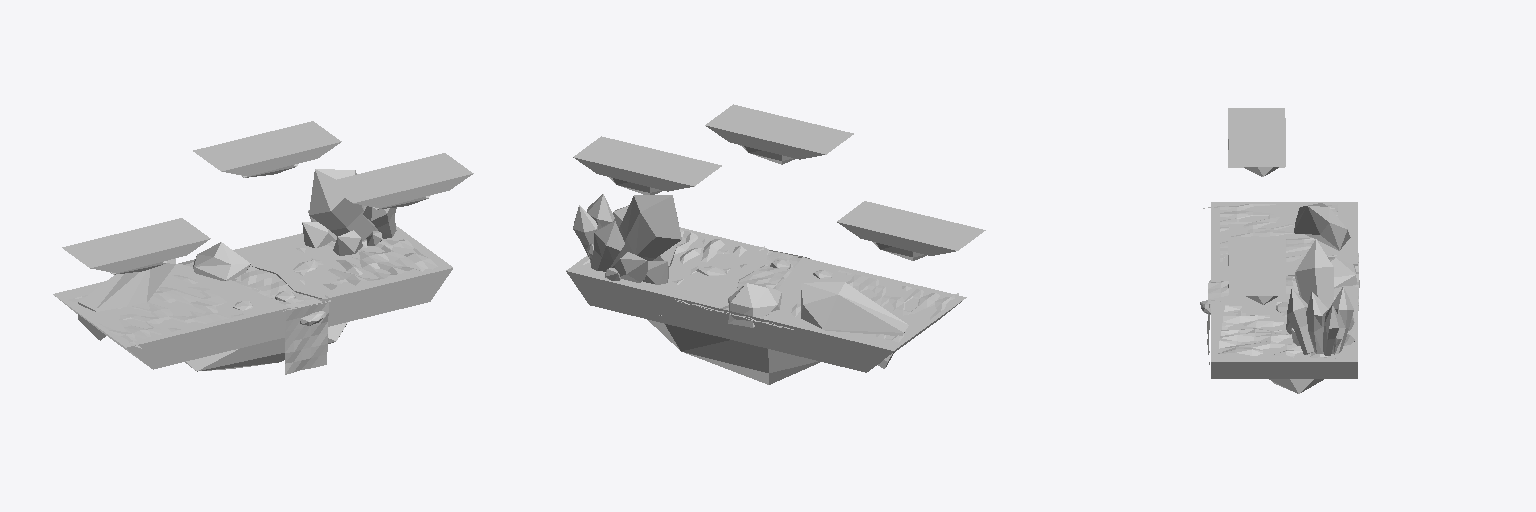
The model's file is level design day 4.obj.
The picture shows the model from 3 angles: view 1: azimuth 30°, elevation 25°; view 2: azimuth 150°, elevation 25°; view 3: azimuth 270°, elevation 25°; orthographic projection.
Parts seen in each view (by area): view 1: Cube, Mineral_Cylinder, Cube.001, Cube.002_Cube.003, Cube.003_Cube.004, Plane.008, Rock6_Icosphere.005, Plane.011, Plane.010, Rock4.001_Icosphere.004, Rock4_Icosphere.002, Plane.009; view 2: Cube, Mineral_Cylinder, Cube.002_Cube.003, Cube.003_Cube.004, Cube.001, Rock6_Icosphere.005, Rock4.001_Icosphere.004, Plane.008, Rock4_Icosphere.002, Plane.010, Plane.009; view 3: Cube, Mineral_Cylinder, Cube.001, Cube.003_Cube.004, Plane.010, Plane.008, Rock6_Icosphere.005, Rock4_Icosphere.002.
Part boxes in pixels (x1,y1,x2,y2): Cube: (53, 226, 452, 369); Mineral_Cylinder: (302, 169, 396, 255); Cube.001: (324, 153, 473, 207); Cube.002_Cube.003: (62, 218, 210, 272); Cube.003_Cube.004: (193, 121, 341, 176); Plane.008: (68, 275, 243, 348); Rock6_Icosphere.005: (78, 258, 175, 340); Plane.011: (285, 301, 328, 374); Plane.010: (294, 238, 437, 297); Rock4.001_Icosphere.004: (185, 322, 347, 371); Rock4_Icosphere.002: (193, 242, 250, 280); Plane.009: (235, 266, 291, 295); Cube: (566, 227, 966, 372); Mineral_Cylinder: (573, 194, 681, 284); Cube.002_Cube.003: (837, 201, 985, 255); Cube.003_Cube.004: (705, 104, 853, 159); Cube.001: (573, 136, 721, 191); Rock6_Icosphere.005: (801, 282, 908, 368); Rock4.001_Icosphere.004: (647, 315, 819, 384); Plane.008: (791, 270, 958, 342); Rock4_Icosphere.002: (728, 283, 781, 327); Plane.010: (583, 229, 764, 284); Plane.009: (737, 267, 788, 290); Cube: (1211, 202, 1357, 378); Mineral_Cylinder: (1286, 239, 1355, 355); Cube.001: (1228, 236, 1285, 295); Cube.003_Cube.004: (1228, 108, 1285, 166); Plane.010: (1211, 300, 1335, 358); Plane.008: (1203, 204, 1337, 261); Rock6_Icosphere.005: (1294, 203, 1350, 250); Rock4_Icosphere.002: (1328, 257, 1359, 288).
Bounding box in the file's own units: 69.48 × 40.8 × 24.97.